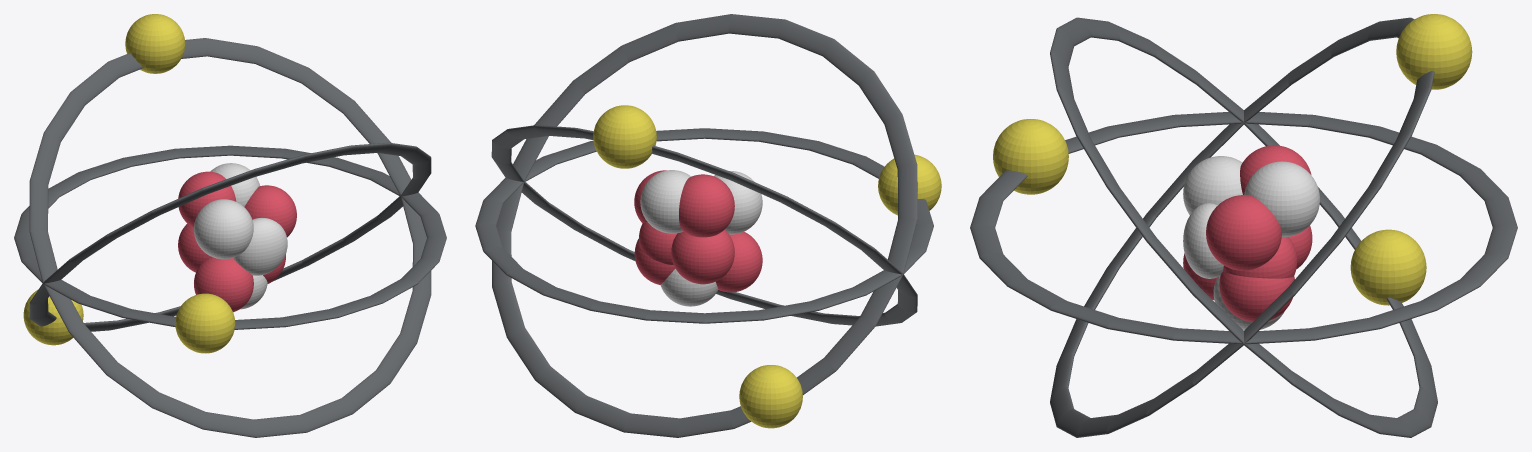
Rendered from chadwick.glb.
The picture shows the model from 3 angles, left to right: view 1: azimuth 30°, elevation 25°; view 2: azimuth 150°, elevation 25°; view 3: azimuth 270°, elevation 25°; orthographic projection. The views are drawn at different scales.
Visible parts, largest first — view 1: Mesh_Mesh_head_geo.001_lambert2SG.001; view 2: Mesh_Mesh_head_geo.001_lambert2SG.001; view 3: Mesh_Mesh_head_geo.001_lambert2SG.001.
Boxes of the visible parts, x1,y1,x2,y2 form: Mesh_Mesh_head_geo.001_lambert2SG.001: (14, 14, 446, 437); Mesh_Mesh_head_geo.001_lambert2SG.001: (475, 14, 941, 437); Mesh_Mesh_head_geo.001_lambert2SG.001: (970, 14, 1517, 437).
Bounding box in the file's own units: 46.28 × 36 × 46.28.
